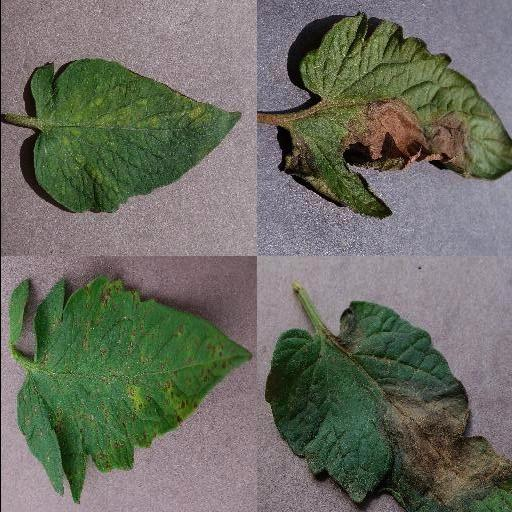Late Blight: (264, 302, 512, 512), (282, 10, 512, 220)
Septoria: (17, 276, 253, 504)
Spider Mites: (30, 59, 242, 213)
